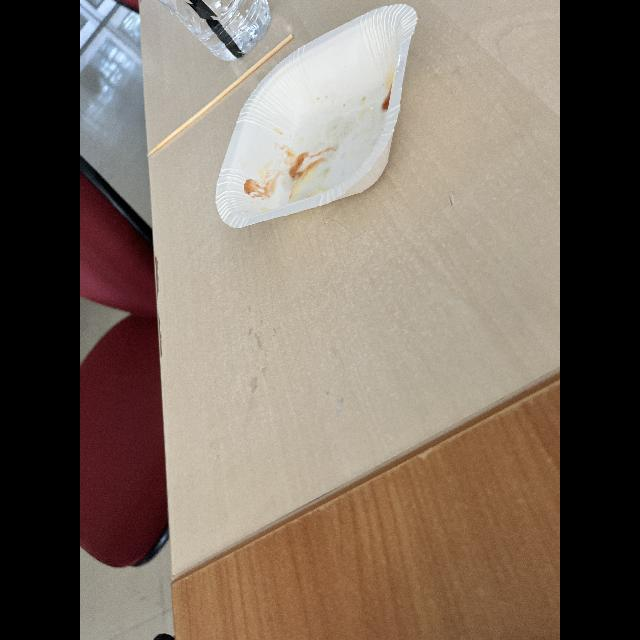cardboard_bowl: (210, 0, 424, 228)
stick: (147, 27, 300, 161)
